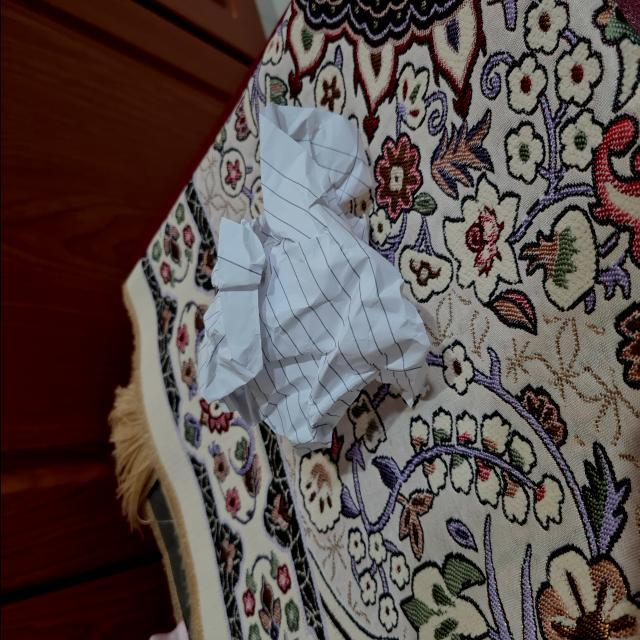Paper: (186, 92, 428, 436)
